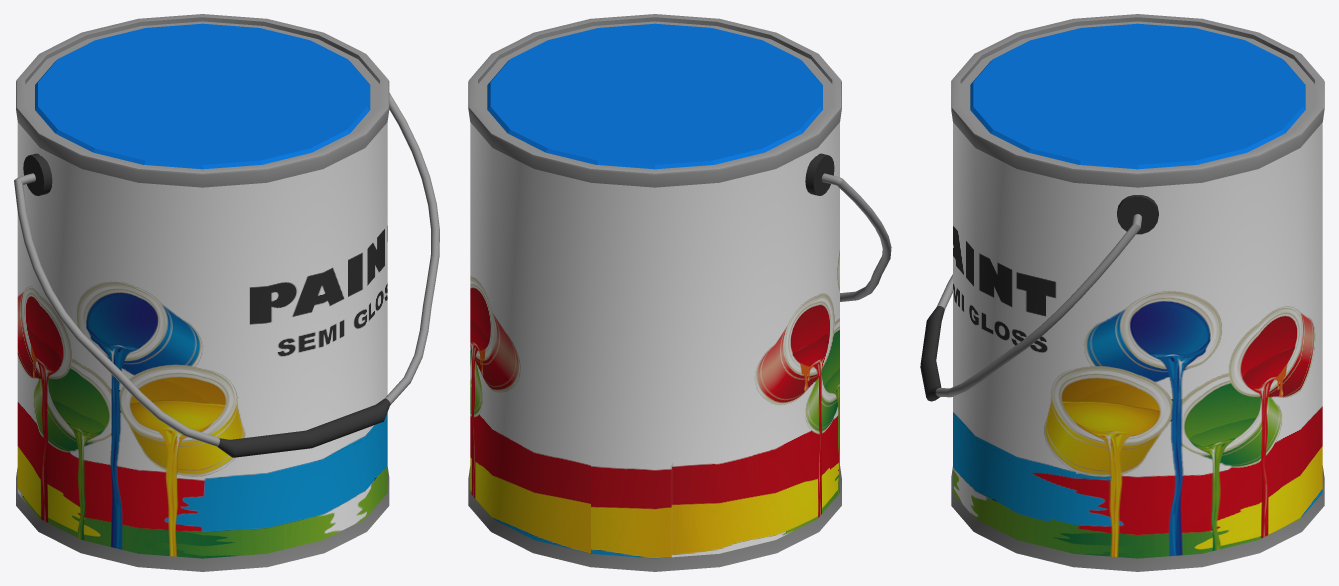
Rendered from Paint can 2.FBX.
The picture shows the model from 3 angles, left to right: view 1: azimuth 30°, elevation 25°; view 2: azimuth 150°, elevation 25°; view 3: azimuth 270°, elevation 25°; orthographic projection.
Visible parts, largest first — view 1: paint can 2; view 2: paint can 2; view 3: paint can 2.
Part boxes in pixels (<box>): paint can 2: <box>14,14,439,571</box>; paint can 2: <box>468,14,891,571</box>; paint can 2: <box>920,14,1324,571</box>.
Size of the model in its own units: 16.83 by 16.24 by 14.93.
2 materials, 1 textured.
